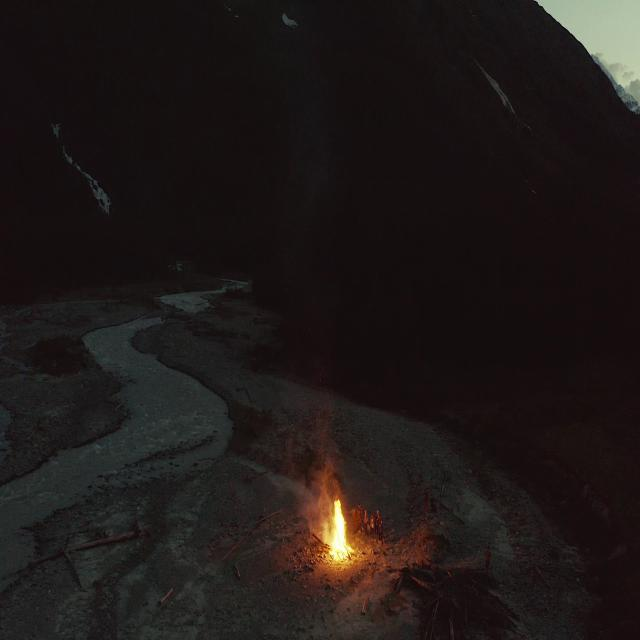Fire: (326, 490, 351, 564)
